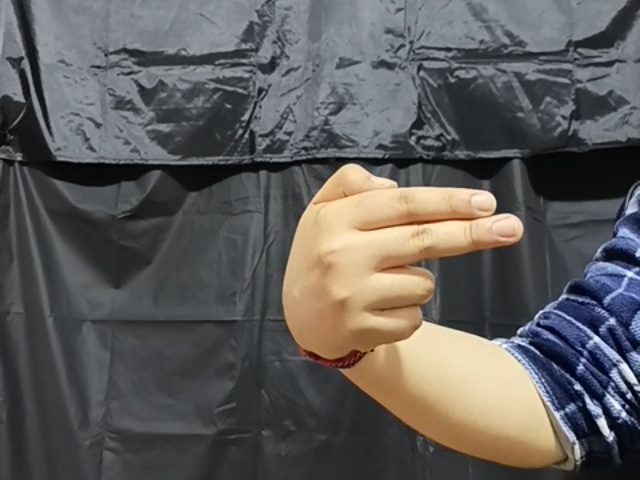H: (273, 161, 526, 371)
